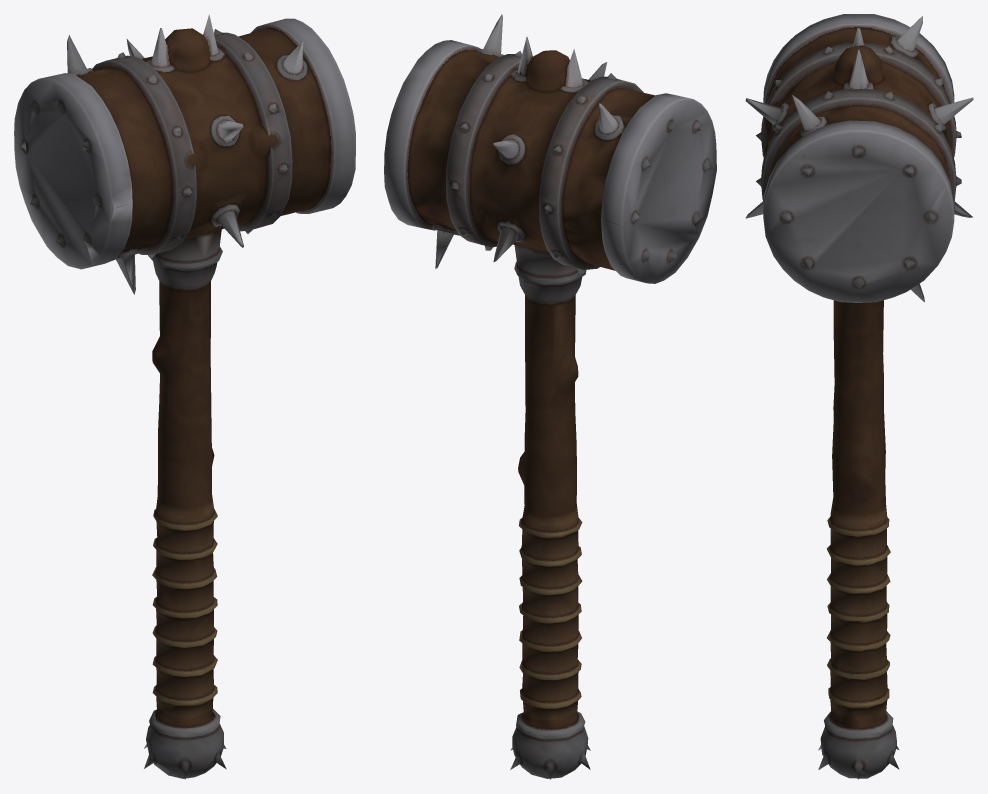
The model's file is boss_brute_hammer_mog.glb.
3 renders of one model, left to right at view 1: azimuth 30°, elevation 25°; view 2: azimuth 150°, elevation 25°; view 3: azimuth 270°, elevation 25°, orthographic. The views are drawn at different scales.
Parts seen in each view (by area): view 1: boss_brute_hammer_mog; view 2: boss_brute_hammer_mog; view 3: boss_brute_hammer_mog.
Part boxes in pixels (x1,y1,x2,y2): boss_brute_hammer_mog: (14,14,355,779); boss_brute_hammer_mog: (384,14,716,779); boss_brute_hammer_mog: (745,14,973,779).
Size of the model in its own units: 0.6483 by 1.81 by 0.506.
1 material, 1 textured.
